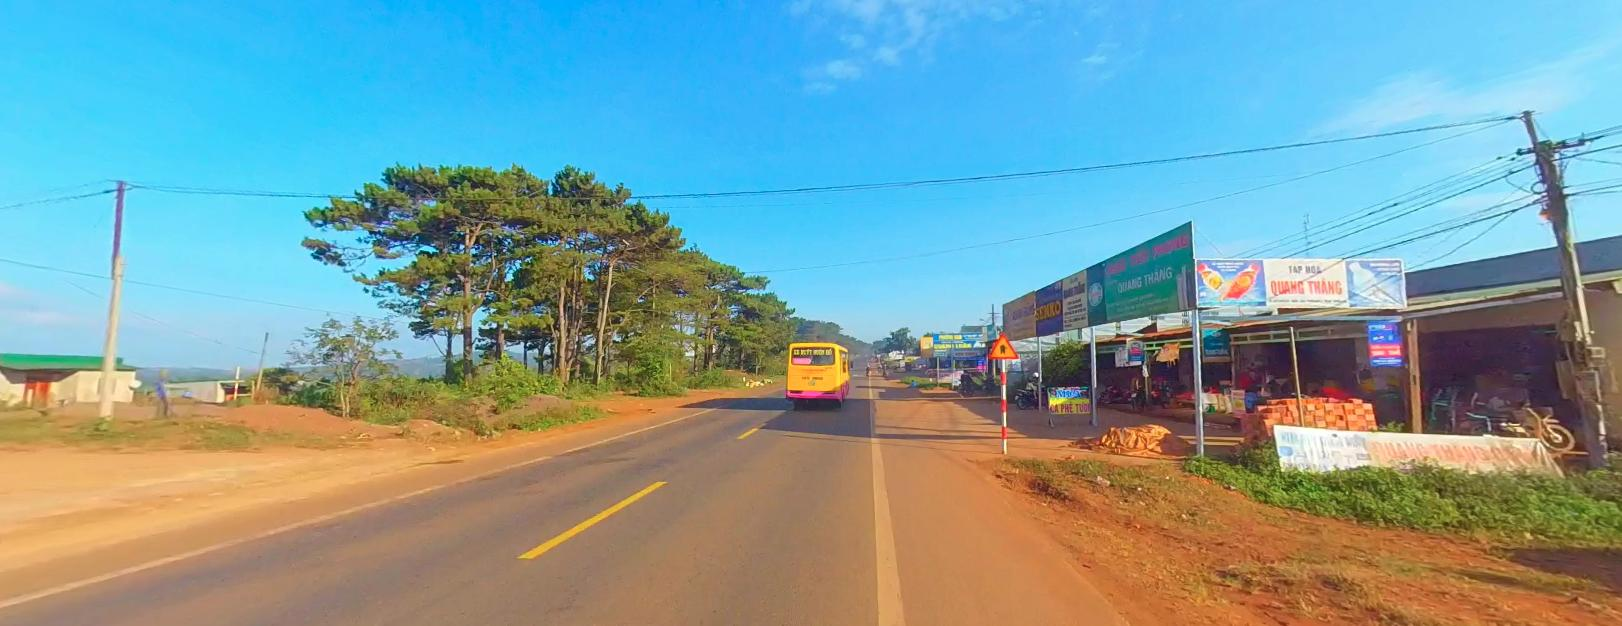Nguy hiem: (987, 331, 1018, 358)
